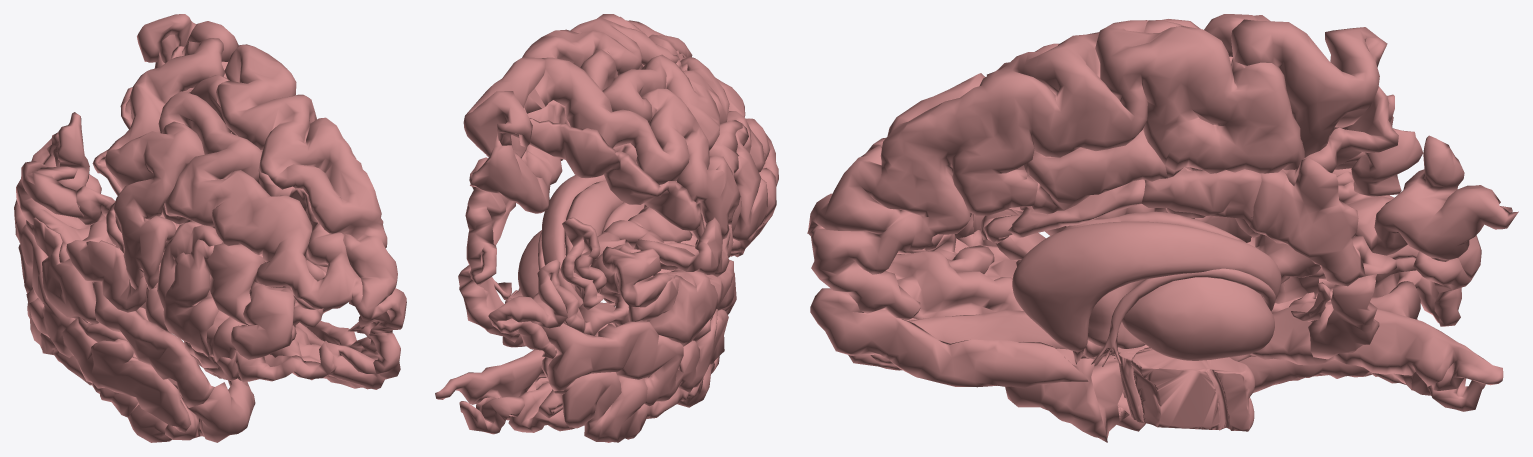
File: CNS.R.001.fbx
3 renders of one model, left to right at view 1: azimuth 30°, elevation 25°; view 2: azimuth 150°, elevation 25°; view 3: azimuth 270°, elevation 25°, orthographic. The views are drawn at different scales.
Parts seen in each view (by area): view 1: Triangular part of inferior frontal gyrus.r.001; view 2: Triangular part of inferior frontal gyrus.r.001; view 3: Triangular part of inferior frontal gyrus.r.001.
Boxes of the visible parts, x1,y1,x2,y2 form: Triangular part of inferior frontal gyrus.r.001: [14, 14, 406, 442]; Triangular part of inferior frontal gyrus.r.001: [435, 14, 778, 442]; Triangular part of inferior frontal gyrus.r.001: [807, 14, 1518, 442].
Bounding box in the file's own units: 6.89 × 16.33 × 11.71.
